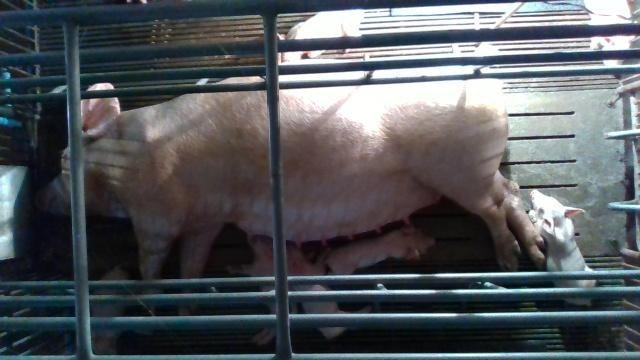piglet: (282, 242, 373, 339), (528, 187, 595, 305), (324, 221, 436, 275), (225, 235, 275, 348), (86, 262, 141, 355), (276, 8, 361, 63), (584, 1, 637, 65)
sow-sleep-lactate: (36, 76, 546, 316)
